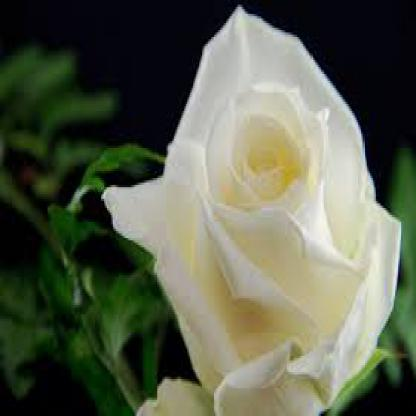Rose-Mawar: (104, 3, 401, 415)
